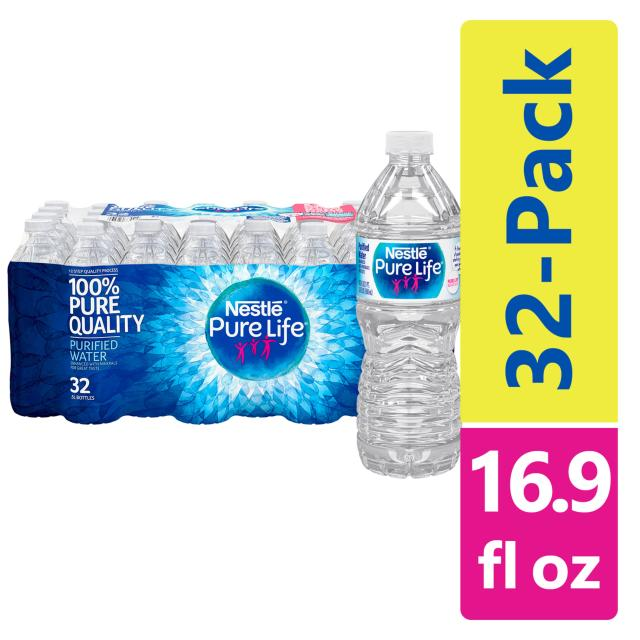plastic_bottle: (354, 130, 461, 478)
